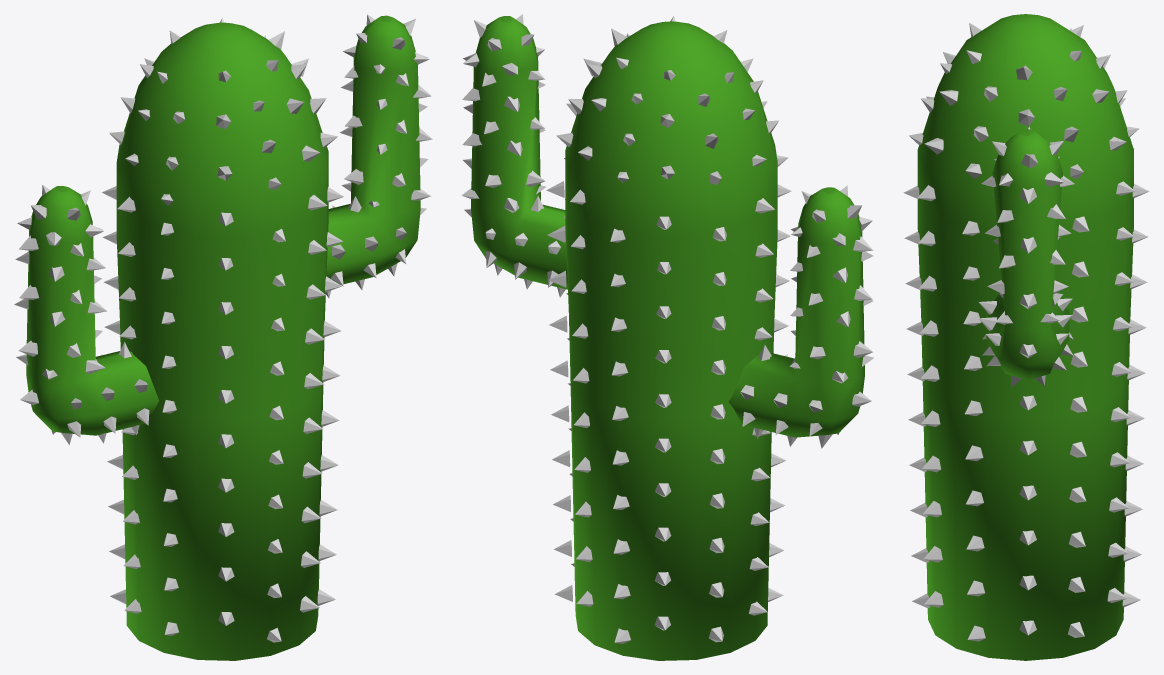
The model's file is Cactus 2handed.fbx.
3 views of the same model, side by side, from view 1: azimuth 30°, elevation 25°; view 2: azimuth 150°, elevation 25°; view 3: azimuth 270°, elevation 25° (orthographic).
Visible parts, largest first — view 1: Cactus2; view 2: Cactus2; view 3: Cactus2.
Boxes of the visible parts, box(x1,y1,x2,y2) form: Cactus2: box(14, 14, 432, 660); Cactus2: box(461, 14, 873, 660); Cactus2: box(903, 14, 1149, 660).
Size of the model in its own units: 443 by 611 by 227.
